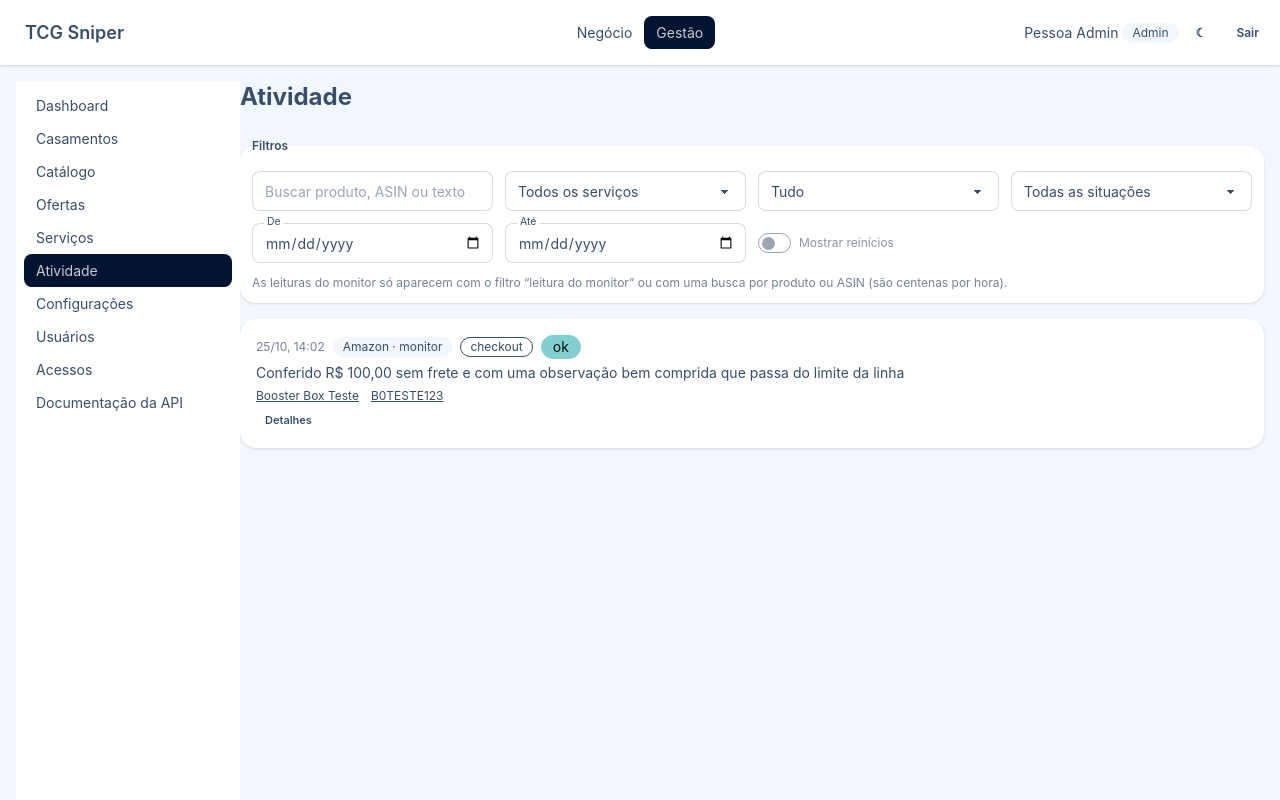
Test: Atividade › tocar na linha abre o detalhe com a observação completa
The width and height of the screenshot is (1280, 800).
Expected: the text "Observação completa do checkout" is not shown
What coordinates should you click on to do the following:
click the button "Detalhes"
I would click on:
 (288, 420)
Its box is 256,408 -> 321,432.
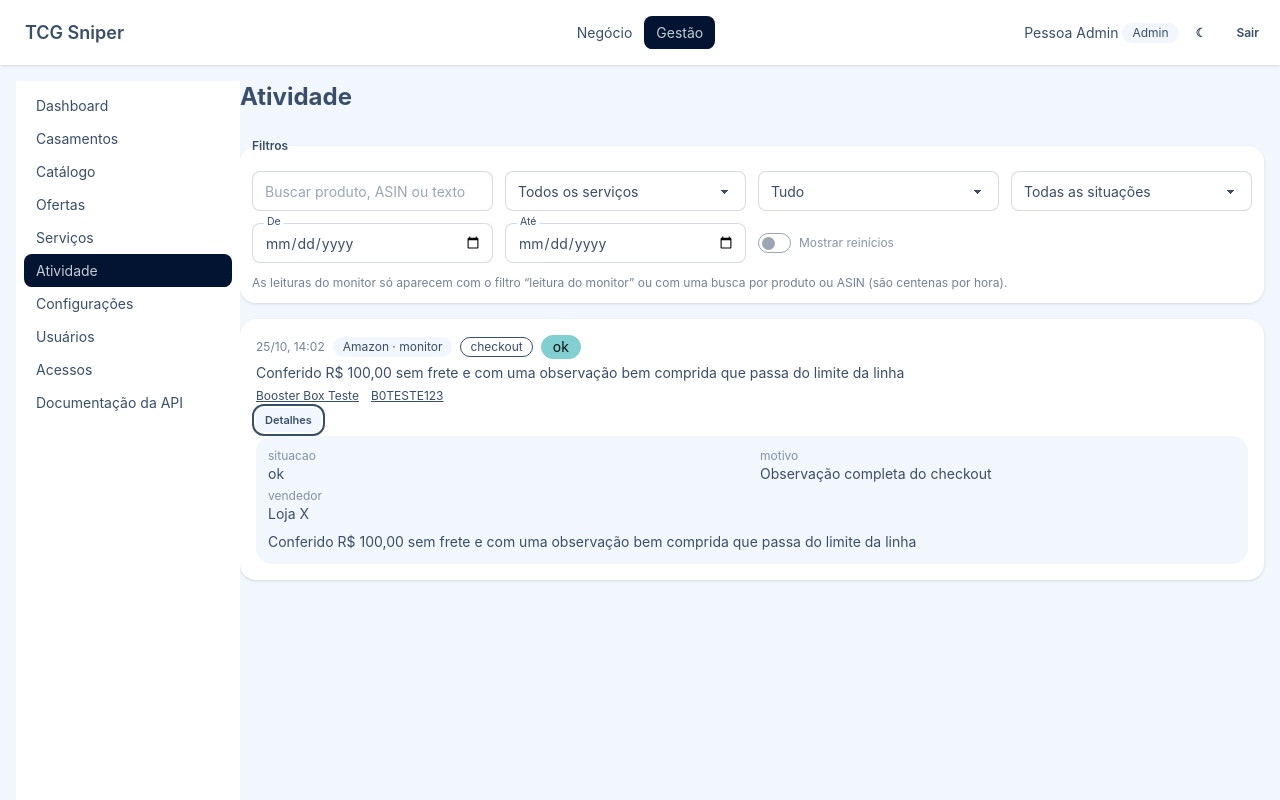
Expected: the button "Detalhes" is expanded, 256,408 -> 321,432
Expected: the text "Observação completa do checkout" is shown, 760,465 -> 992,482
Expected: the text "Loja X" is shown, 268,505 -> 309,522
